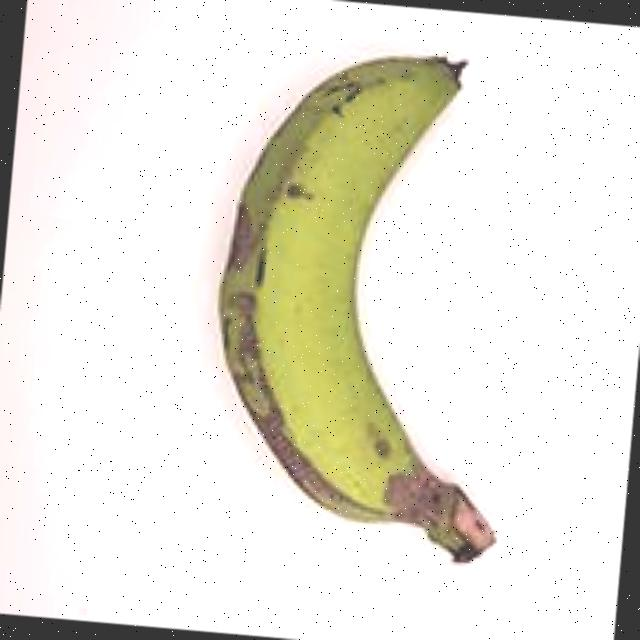Raw: (158, 3, 572, 610)
